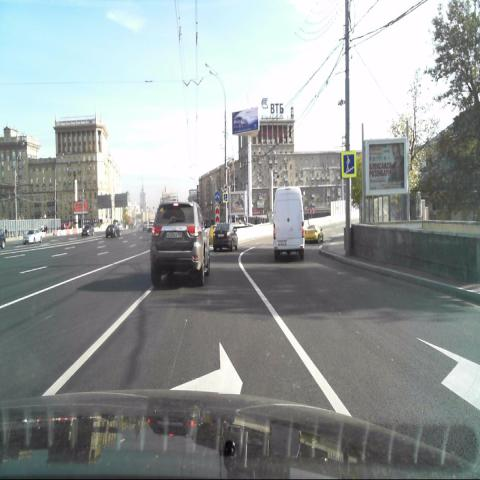6_6: (342, 152, 356, 178)
